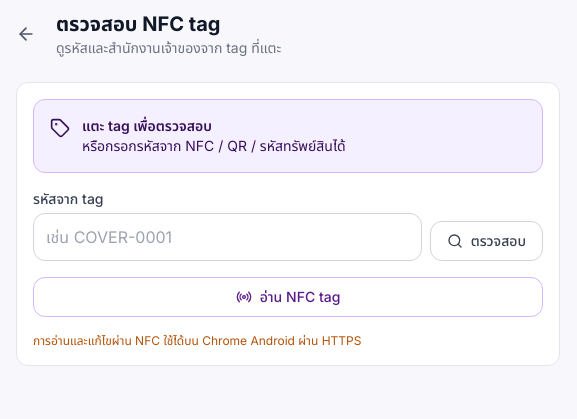
Test: CheckTagPage — inspect and edit NFC tag (Flow 5) › reports a clear not-found message on a 404 lookup
This screenshot has width=577, height=419.
Step 1. Type "UNKNOWN" into the field labelled "รหัสจาก tag" → (227, 237), box [33, 213, 422, 261]
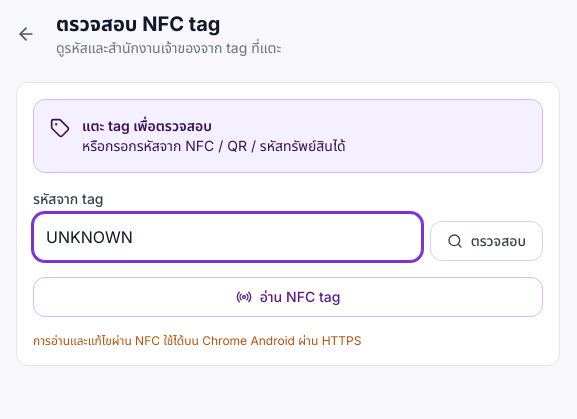
Step 2. Click the button "ตรวจสอบ" → (486, 241), box [430, 221, 543, 261]
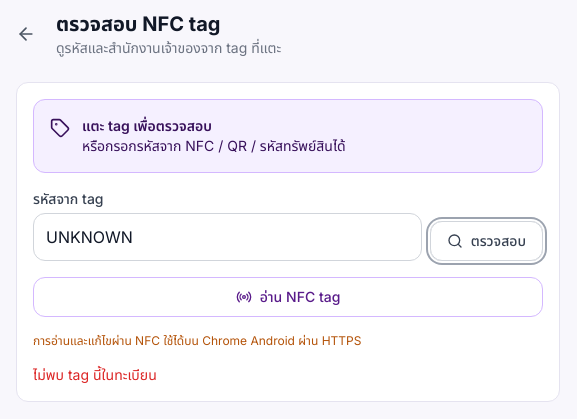
Now the text "ไม่พบ tag นี้ในทะเบียน" is shown, box [33, 366, 157, 383]
